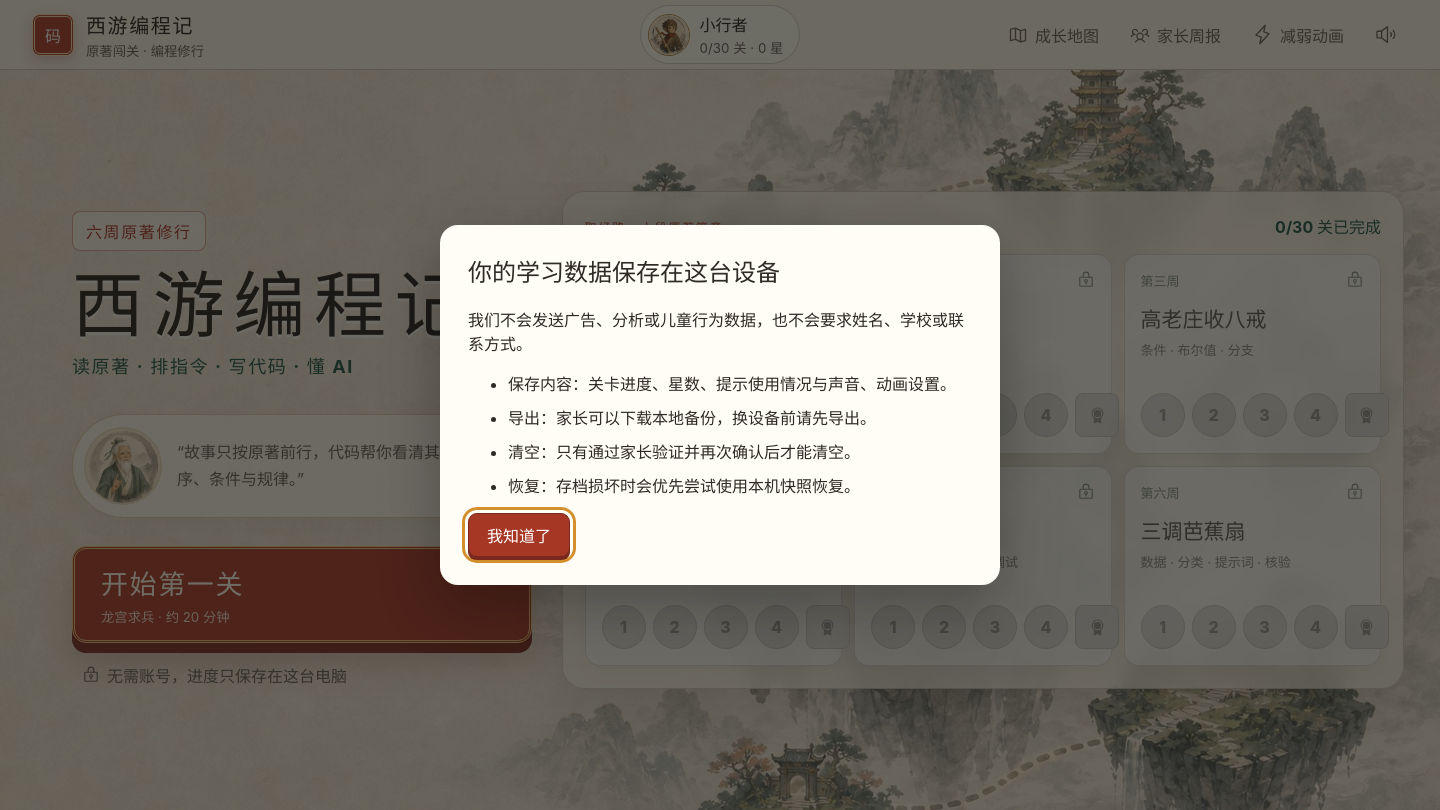
Scenario: 西游编程记 › opens the first canonical mission with source and three-level hints
The width and height of the screenshot is (1440, 810).
Click the button "我知道了" at (519, 536), box [468, 514, 570, 558]
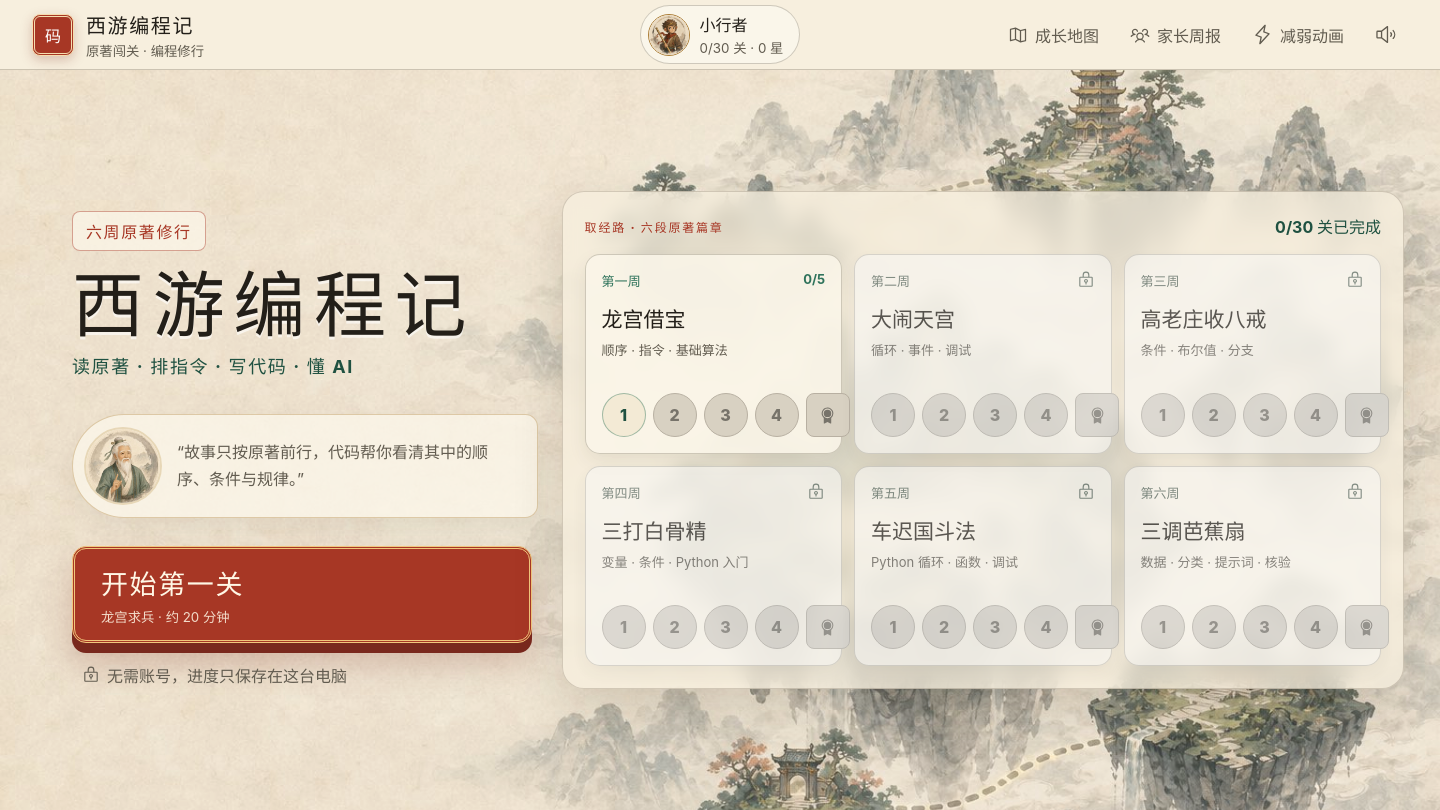
Check: the heading "你的学习数据保存在这台设备" is gone
Click the button "开始第一关 龙宫求兵 · 约 20 分钟" at (173, 585), box [72, 546, 532, 643]
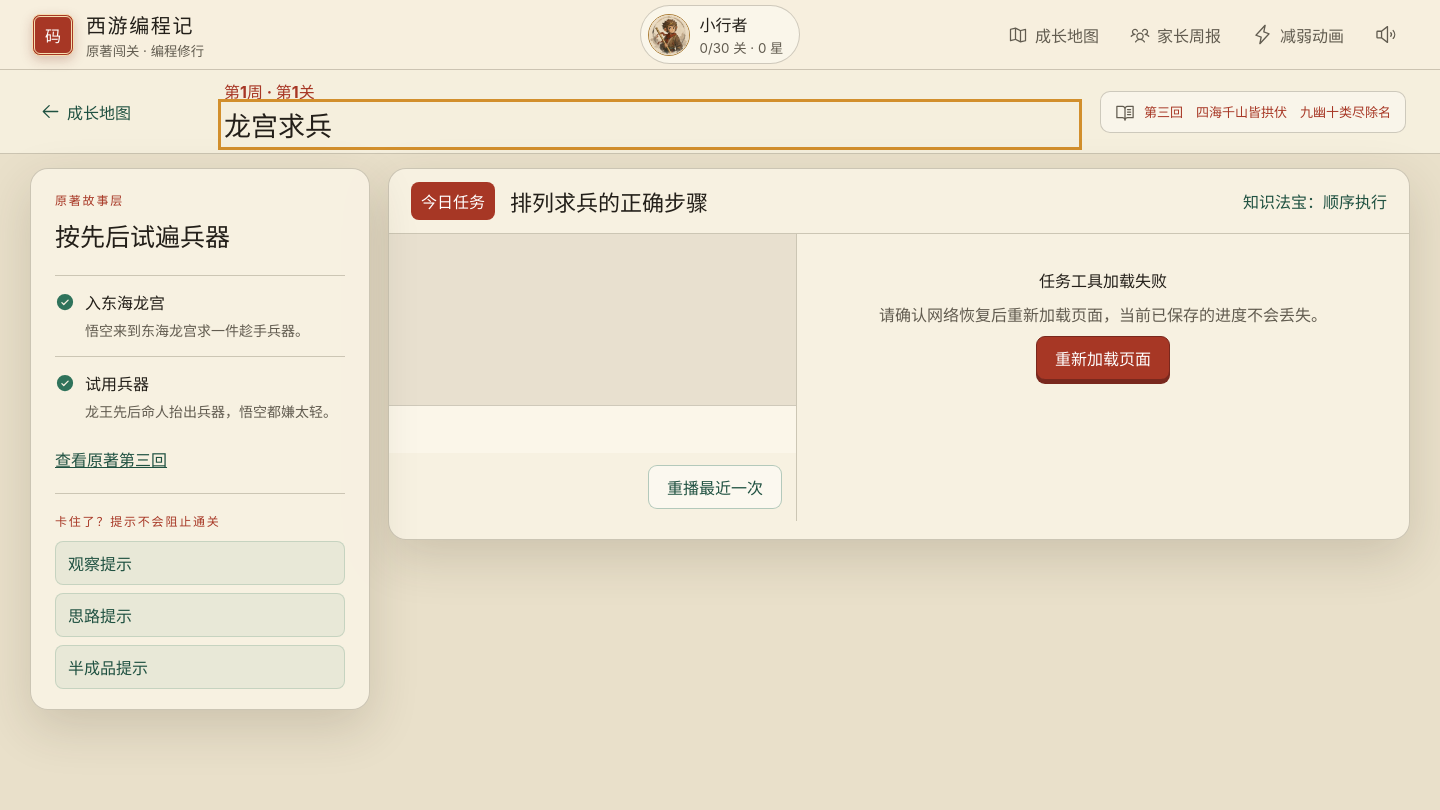
Check: the heading "龙宫求兵" is shown, box [224, 112, 332, 142]
Check: the button "观察提示" is shown, box [55, 541, 345, 585]
Check: the button "思路提示" is shown, box [55, 593, 345, 637]
